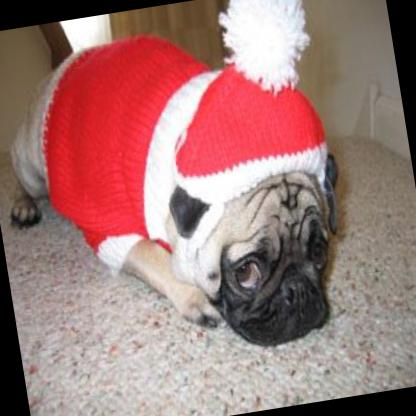pug: (0, 5, 360, 381)
